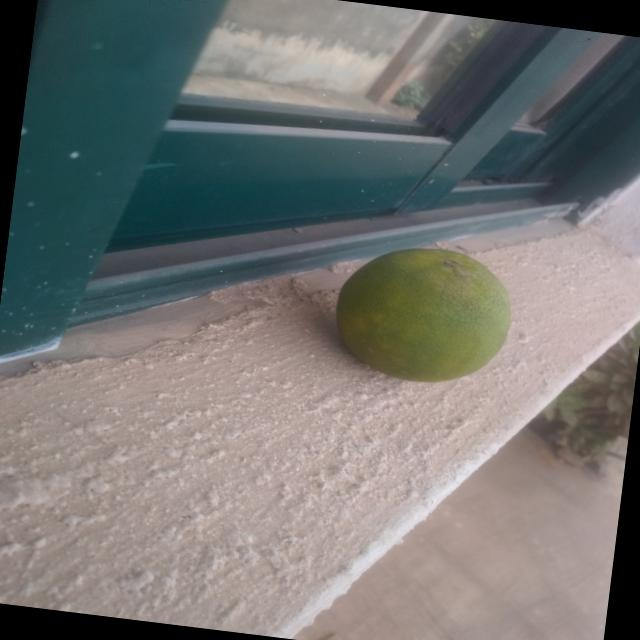agrume: (289, 218, 540, 419)
